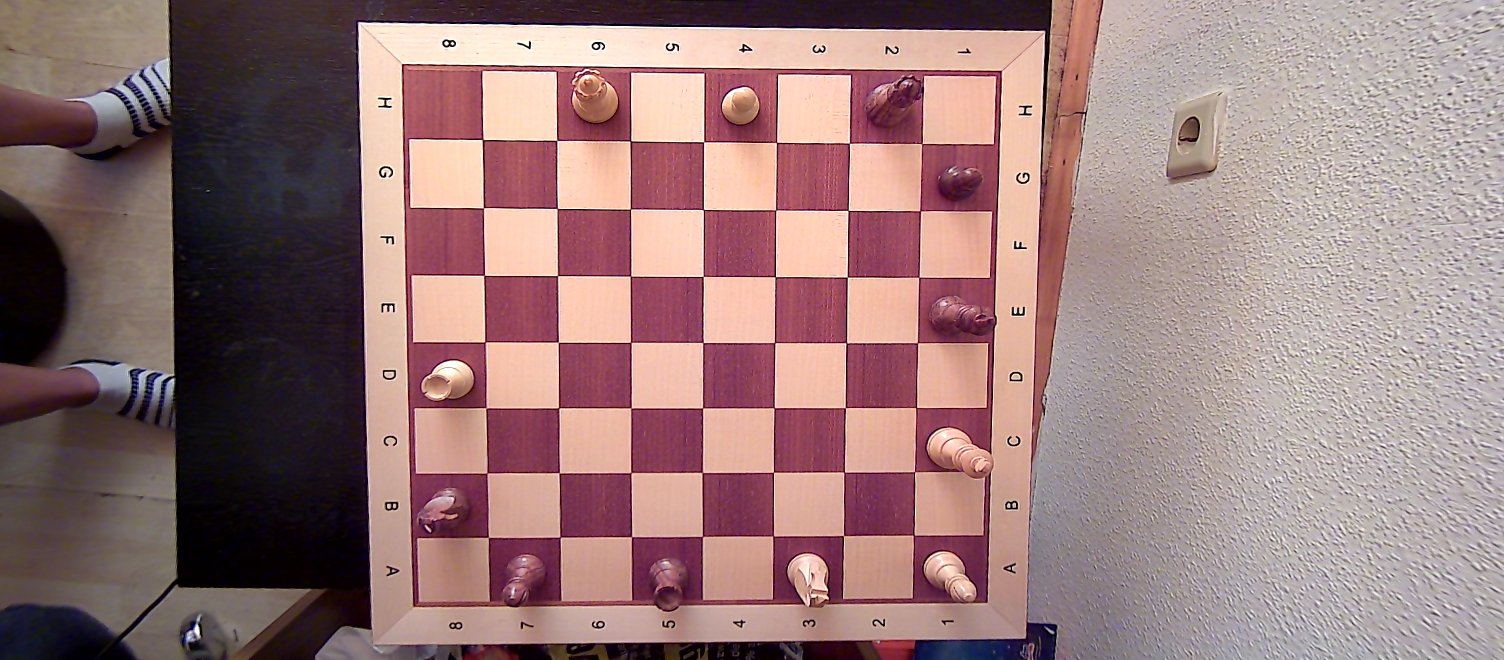black-bishop: (493, 549, 547, 604)
black-king: (926, 290, 1002, 341)
black-knight: (409, 484, 476, 538)
black-pawn: (932, 160, 989, 203)
black-queen: (866, 75, 925, 128)
black-rook: (646, 553, 687, 614)
white-bishop: (923, 547, 981, 605)
white-king: (922, 424, 997, 483)
white-knight: (786, 551, 832, 610)
white-pawn: (719, 84, 763, 128)
white-queen: (568, 66, 618, 127)
white-rook: (414, 354, 479, 406)
